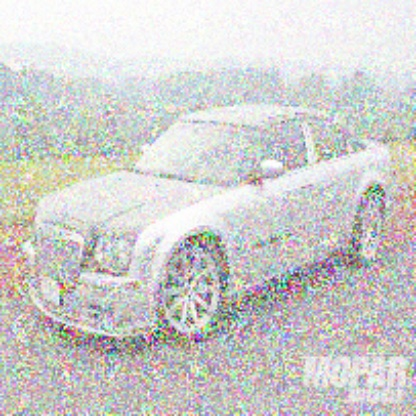Vehicle: (23, 106, 398, 346)
